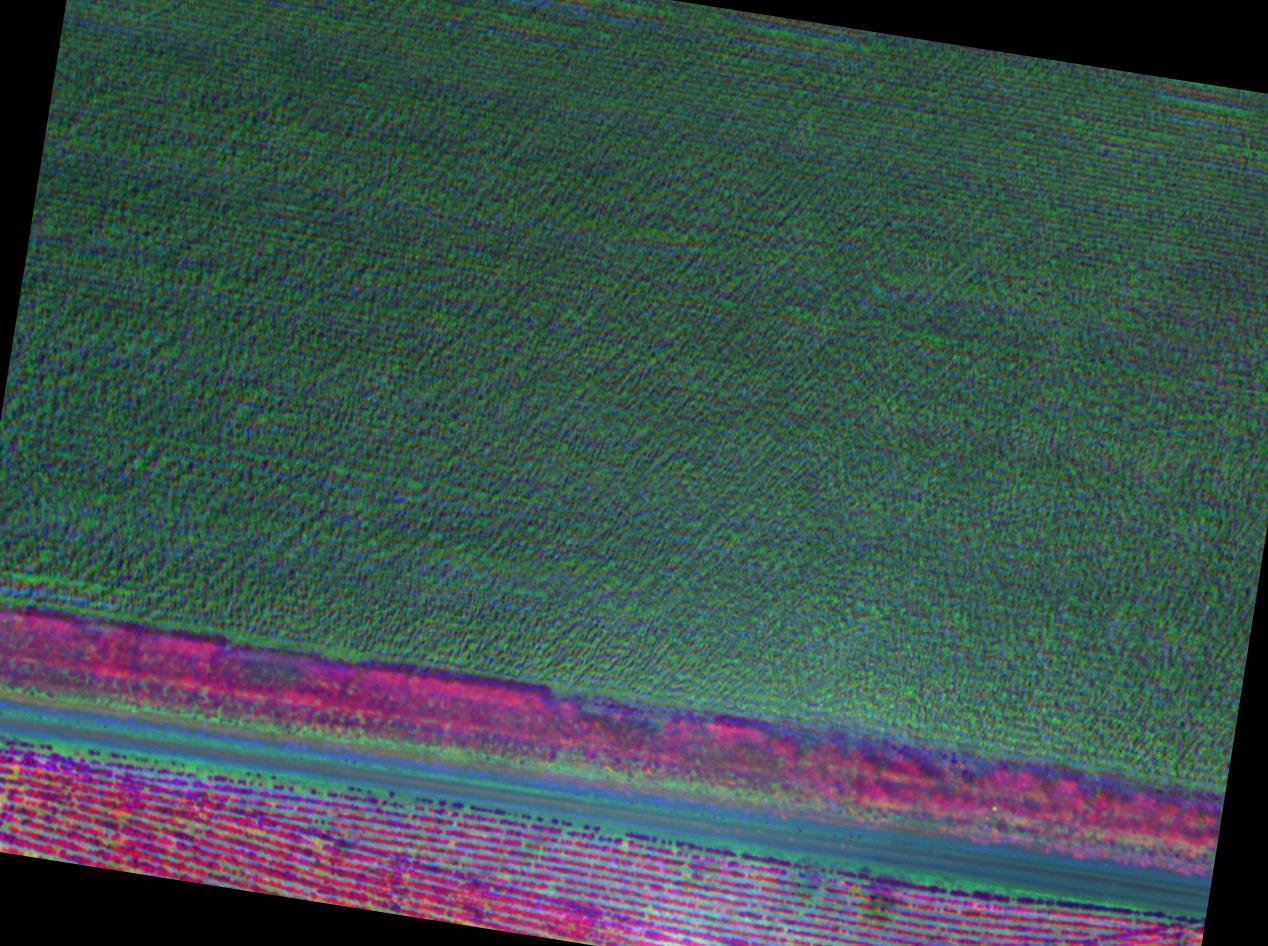dc: (834, 853, 926, 943)
